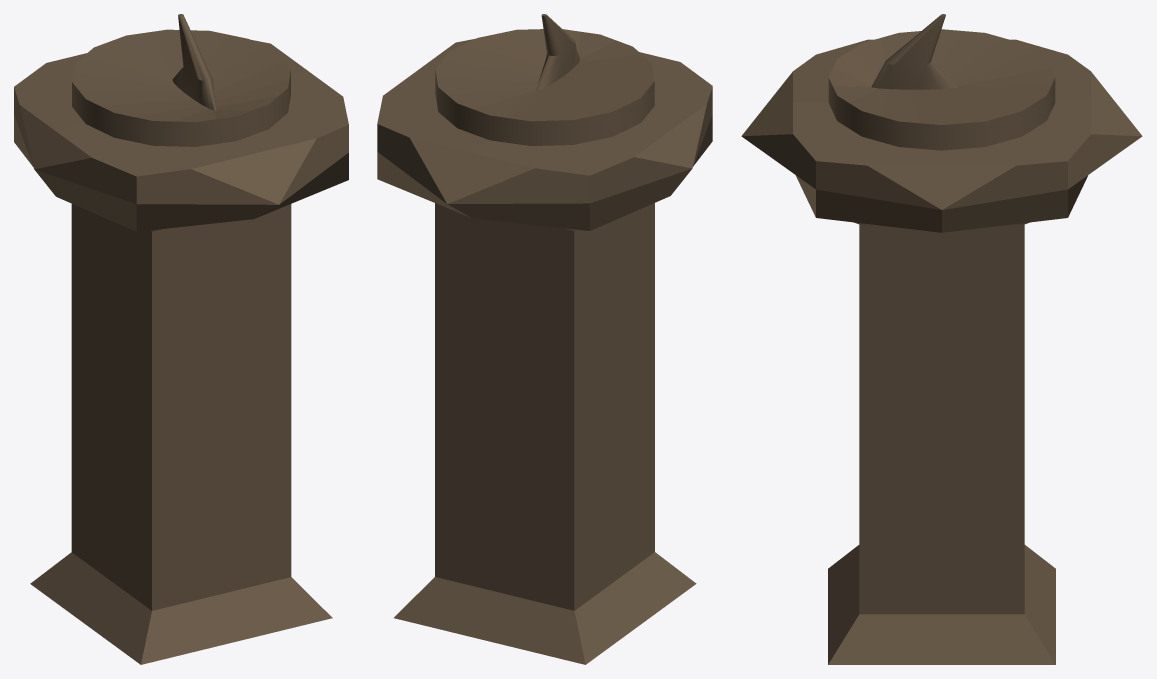
File: Sun Dial meso.fbx
The picture shows the model from 3 angles, left to right: view 1: azimuth 30°, elevation 25°; view 2: azimuth 150°, elevation 25°; view 3: azimuth 270°, elevation 25°; orthographic projection. The views are drawn at different scales.
Visible parts, largest first — view 1: pCube2; view 2: pCube2; view 3: pCube2.
Boxes of the visible parts, x1=… form: pCube2: x1=14, y1=14, x2=348, y2=664; pCube2: x1=377, y1=14, x2=712, y2=664; pCube2: x1=741, y1=14, x2=1142, y2=664.
Size of the model in its own units: 69.36 by 132 by 79.62.
